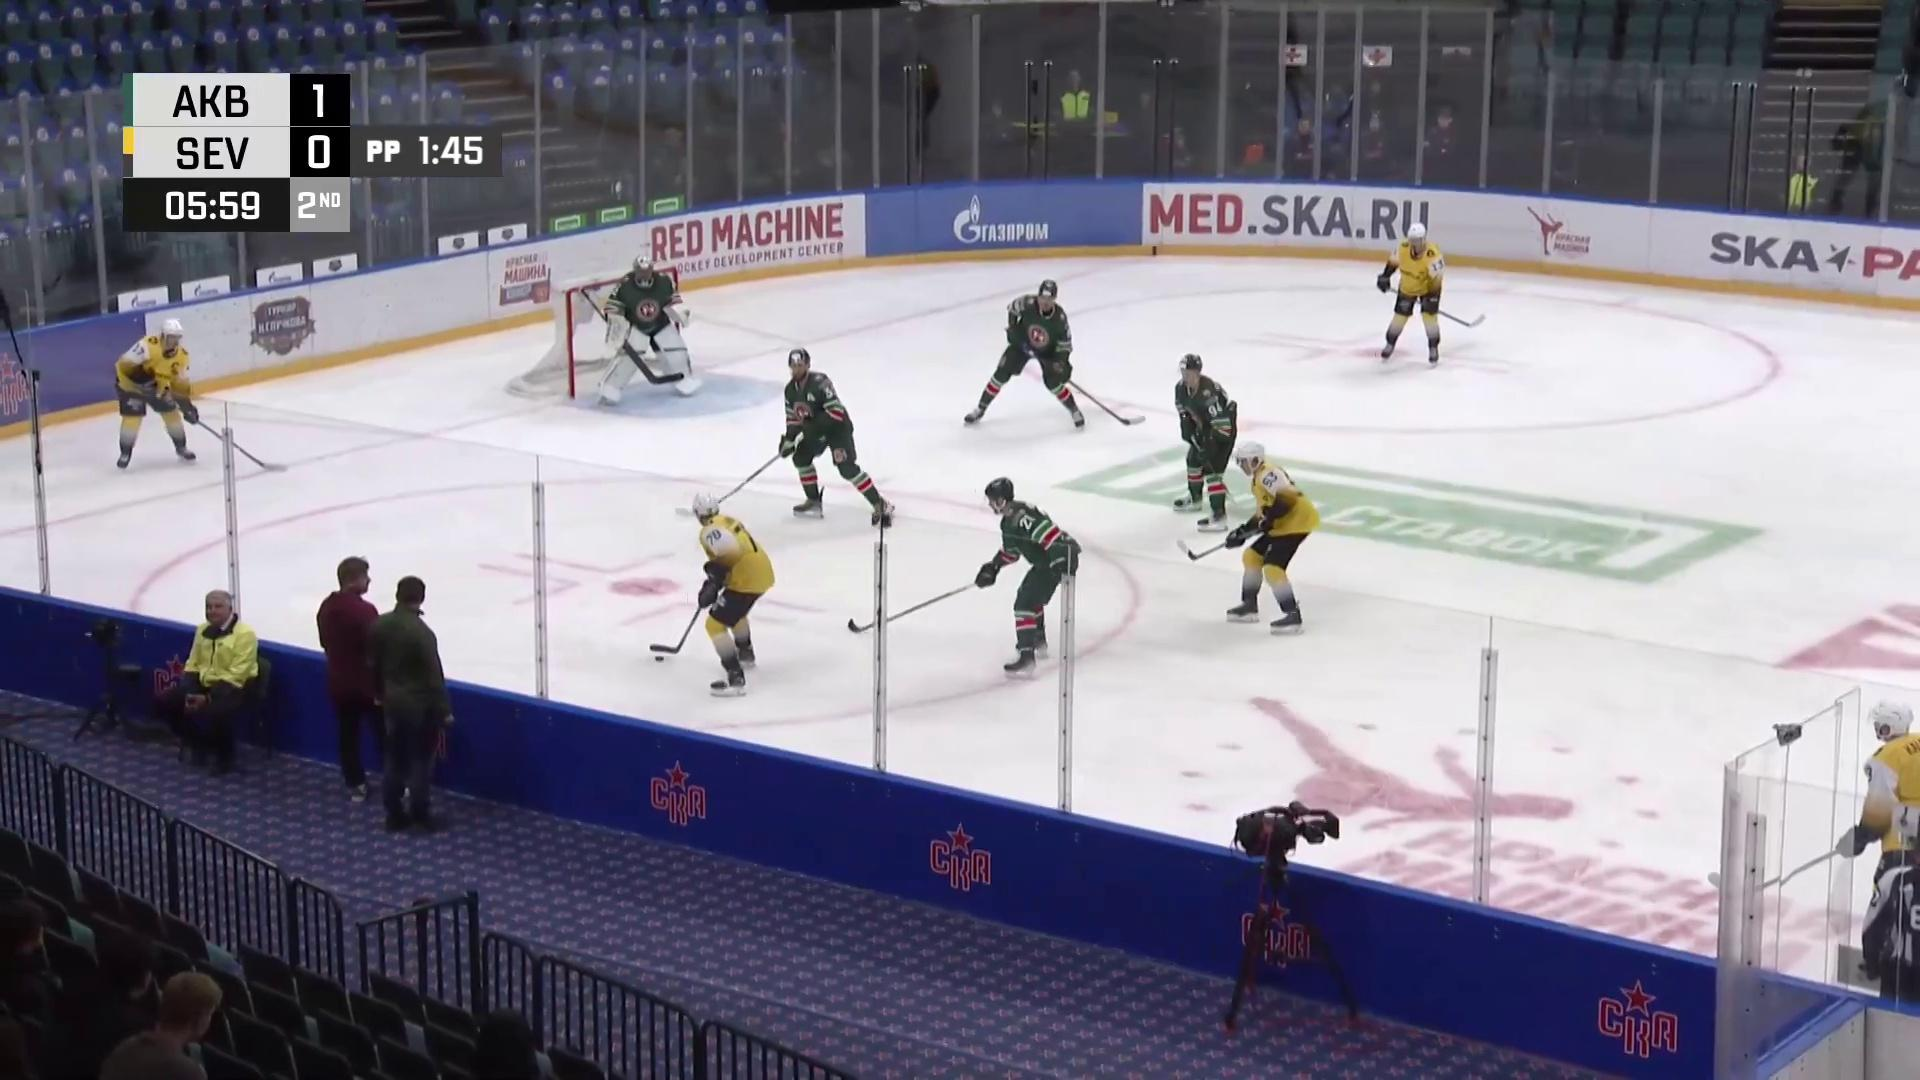ball: (654, 655, 666, 663)
